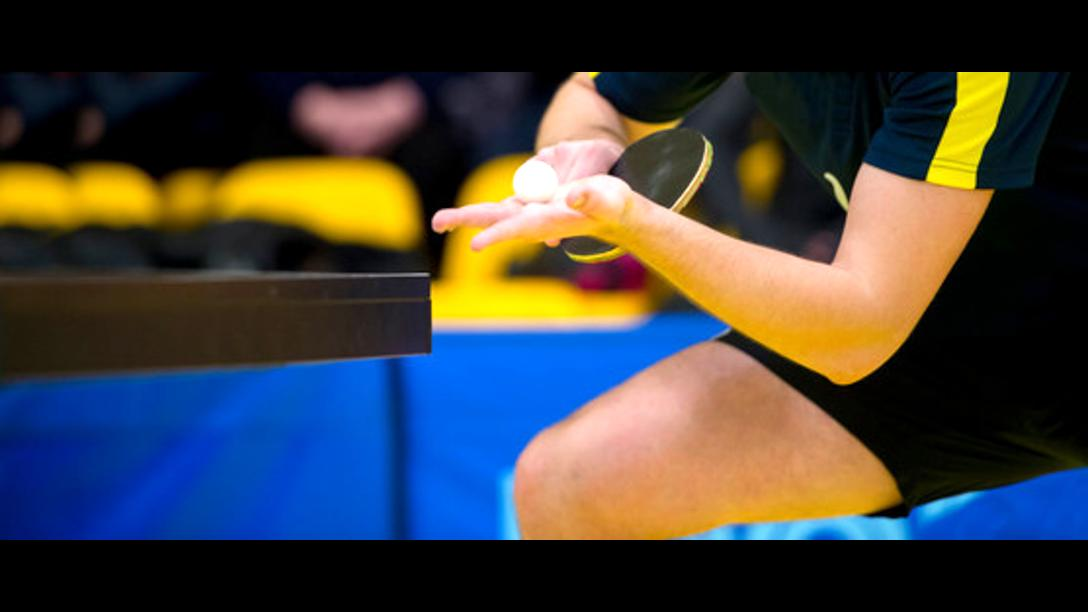Table-Tennis-Ball: (514, 161, 556, 201)
